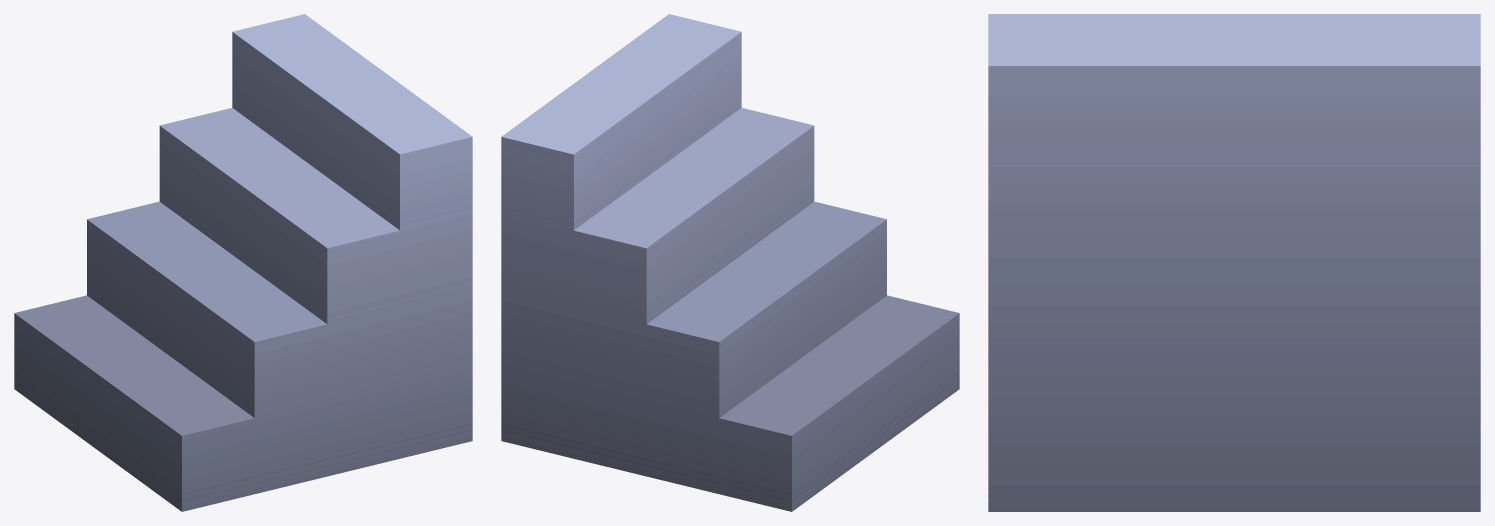
File: stairs.glb
The picture shows the model from 3 angles, left to right: view 1: azimuth 30°, elevation 25°; view 2: azimuth 150°, elevation 25°; view 3: azimuth 270°, elevation 25°; orthographic projection. The views are drawn at different scales.
Visible parts, largest first — view 1: stairs; view 2: stairs; view 3: stairs.
Boxes of the visible parts, <box> form: stairs: <box>14,14,472,511</box>; stairs: <box>501,14,959,511</box>; stairs: <box>988,14,1480,511</box>.
Size of the model in its own units: 1 by 1 by 1.
Materials: 1 (1 with a texture image).
